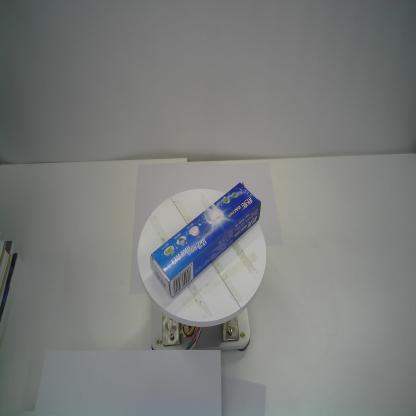Personal Hygiene: (149, 180, 263, 299)
